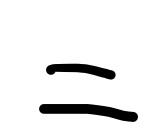eqv: (36, 62, 139, 123)
